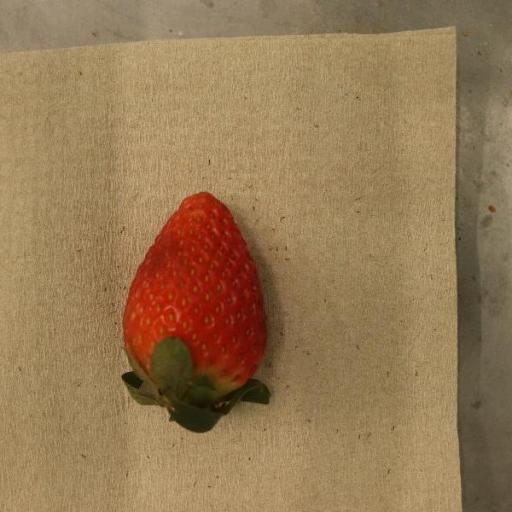Strawberry: (122, 192, 270, 435)
